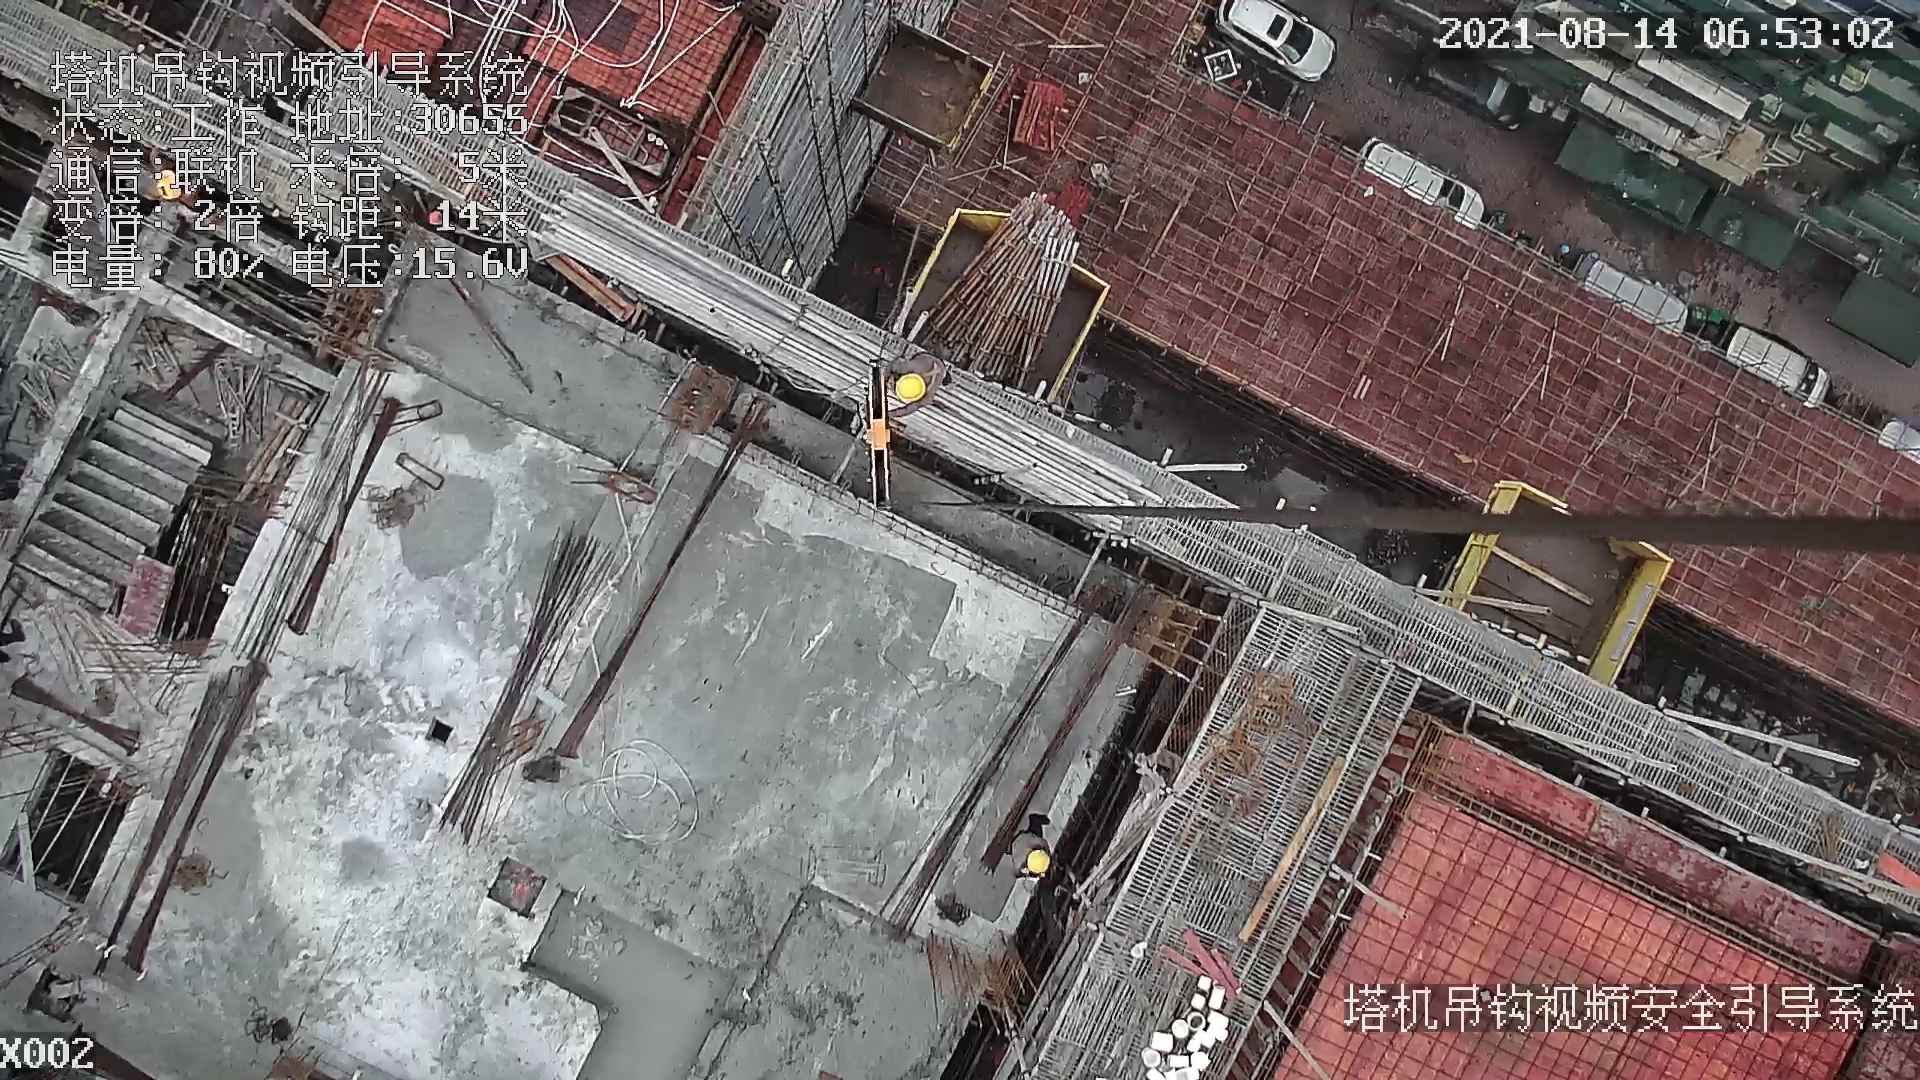helmet: (893, 374, 924, 402), (1026, 850, 1051, 873)
hook: (845, 367, 904, 513)
person: (897, 349, 959, 417), (1006, 814, 1060, 885)
rebar: (439, 525, 616, 844)
scaffold: (911, 193, 1079, 395)
